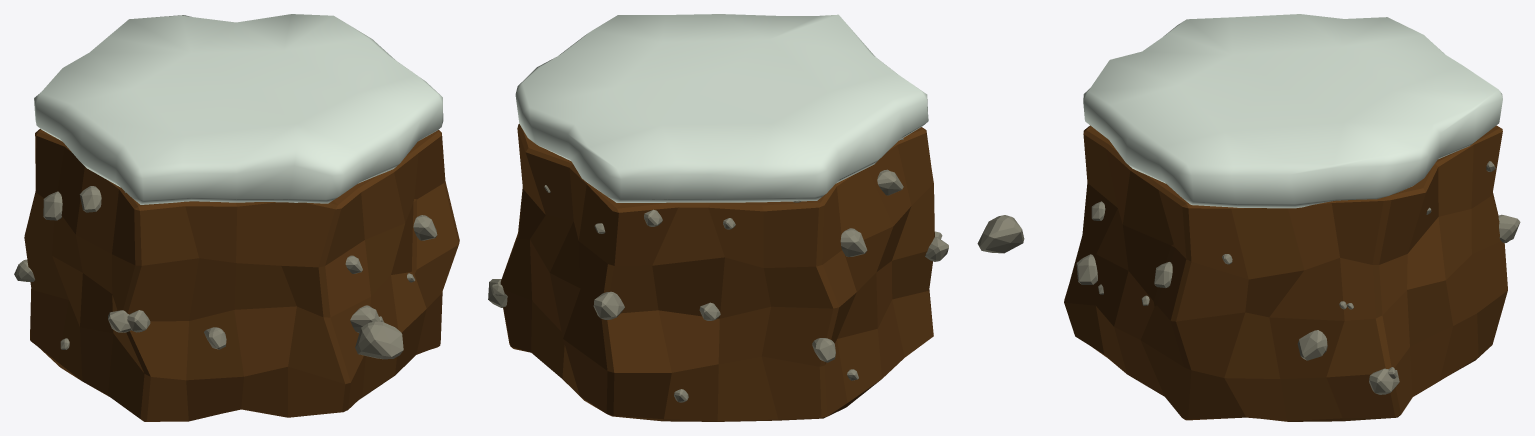
File: snow tile.fbx
The picture shows the model from 3 angles, left to right: view 1: azimuth 30°, elevation 25°; view 2: azimuth 150°, elevation 25°; view 3: azimuth 270°, elevation 25°; orthographic projection.
Visible parts, largest first — view 1: bottom.002, top.002, stone.003, bottom.002|stone.003|Dupli|9, bottom.002|stone.003|Dupli|34, bottom.002|stone.003|Dupli|8, bottom.002|stone.003|Dupli|24, bottom.002|stone.003|Dupli|37; view 2: bottom.002, top.002, bottom.002|stone.003|Dupli|5, bottom.002|stone.003|Dupli|9, bottom.002|stone.003|Dupli|8, bottom.002|stone.003|Dupli|7; view 3: bottom.002, top.002, stone.003, bottom.002|stone.003|Dupli|14, bottom.002|stone.003|Dupli|20, bottom.002|stone.003|Dupli|34.
Part boxes in pixels (bbox=[...]): bottom.002: bbox=[24, 129, 459, 421]; top.002: bbox=[34, 14, 443, 204]; stone.003: bbox=[355, 321, 403, 359]; bottom.002|stone.003|Dupli|9: bbox=[43, 191, 62, 220]; bottom.002|stone.003|Dupli|34: bbox=[350, 305, 380, 332]; bottom.002|stone.003|Dupli|8: bbox=[79, 186, 101, 212]; bottom.002|stone.003|Dupli|24: bbox=[413, 215, 437, 240]; bottom.002|stone.003|Dupli|37: bbox=[108, 310, 131, 332]; bottom.002: bbox=[500, 124, 934, 421]; top.002: bbox=[515, 14, 928, 202]; bottom.002|stone.003|Dupli|5: bbox=[593, 291, 624, 319]; bottom.002|stone.003|Dupli|9: bbox=[840, 228, 867, 256]; bottom.002|stone.003|Dupli|8: bbox=[877, 169, 903, 195]; bottom.002|stone.003|Dupli|7: bbox=[812, 338, 835, 362]; bottom.002: bbox=[1064, 125, 1507, 421]; top.002: bbox=[1083, 14, 1502, 208]; stone.003: bbox=[977, 215, 1024, 253]; bottom.002|stone.003|Dupli|14: bbox=[1297, 330, 1327, 360]; bottom.002|stone.003|Dupli|20: bbox=[1369, 368, 1399, 394]; bottom.002|stone.003|Dupli|34: bbox=[1076, 254, 1097, 284].
Bounding box in the file's own units: 197 × 145 × 256.
